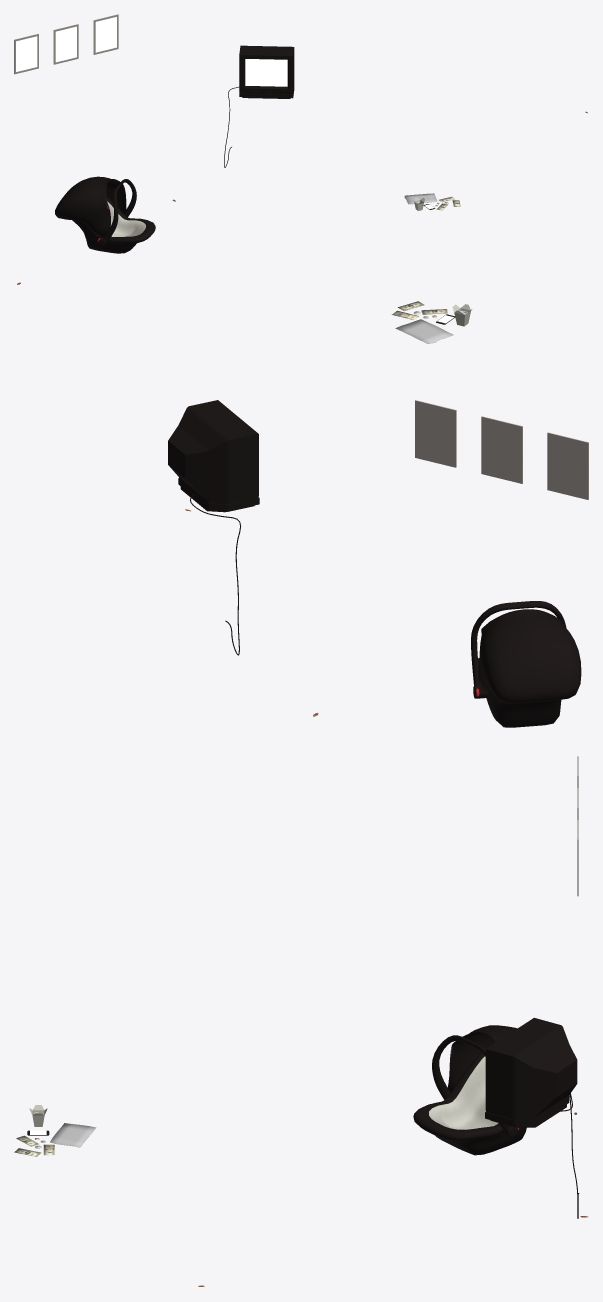
Rendered from Props01.fbx.
The picture shows the model from 3 angles, top to bottom: view 1: azimuth 30°, elevation 25°; view 2: azimuth 150°, elevation 25°; view 3: azimuth 270°, elevation 25°; orthographic projection. The views are drawn at different scales.
Parts seen in each view (by area): view 1: TV01, Bed_Top, Bed01, Frame01, Frame01.001, Frame01.002, Bed_Handle; view 2: Bed_Top, TV01, Frame01, Frame01.001, Frame01.002, Bed01, Bed_Handle, bill01; view 3: TV01, Bed01, Bed_Top, Bed_Handle, bill01.
Boxes of the visible parts, x1,y1,x2,y2 form: TV01: (239, 45, 294, 98); Bed_Top: (55, 176, 126, 237); Bed01: (72, 197, 155, 253); Frame01: (53, 24, 78, 64); Frame01.001: (93, 14, 118, 54); Frame01.002: (14, 34, 38, 74); Bed_Handle: (97, 179, 136, 245); Bed_Top: (477, 609, 581, 703); TV01: (168, 400, 259, 512); Frame01: (481, 416, 522, 483); Frame01.001: (415, 400, 456, 467); Frame01.002: (547, 432, 588, 499); Bed01: (478, 658, 561, 727); Bed_Handle: (471, 601, 566, 698); bill01: (395, 319, 453, 343); TV01: (485, 1017, 577, 1127); Bed01: (413, 1042, 526, 1155); Bed_Top: (447, 1025, 517, 1092); Bed_Handle: (432, 1035, 519, 1137); bill01: (50, 1123, 96, 1147).
Bounding box in the file's own units: 160 × 67.17 × 106.
